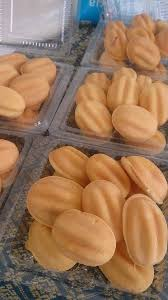kanomkai: (47, 206, 118, 268), (120, 188, 168, 269), (23, 173, 92, 229), (109, 101, 159, 150), (122, 27, 166, 79), (9, 71, 55, 108)
